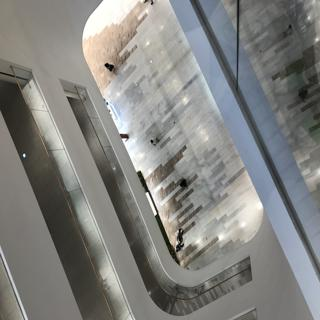person: (99, 54, 127, 80)
